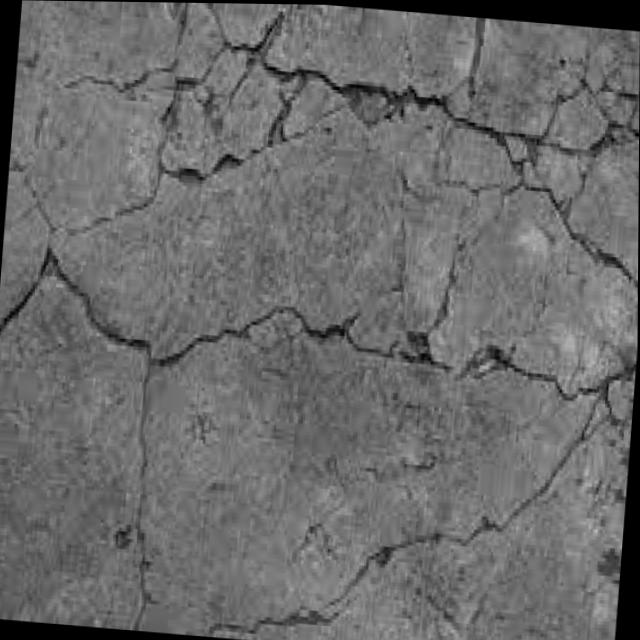Crack: (11, 0, 640, 640)
